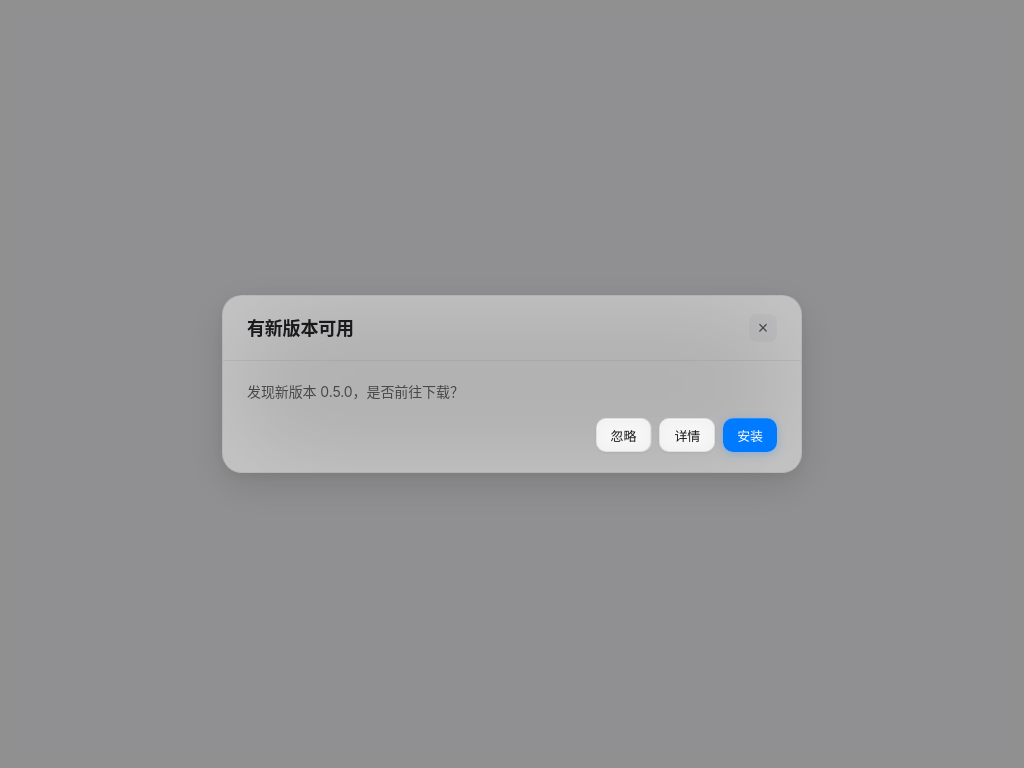
UpdateDialog › should keep close button and show cancel button while downloading
The image size is (1024, 768).
Click the button "安装" at (750,435), box [723, 418, 777, 452]
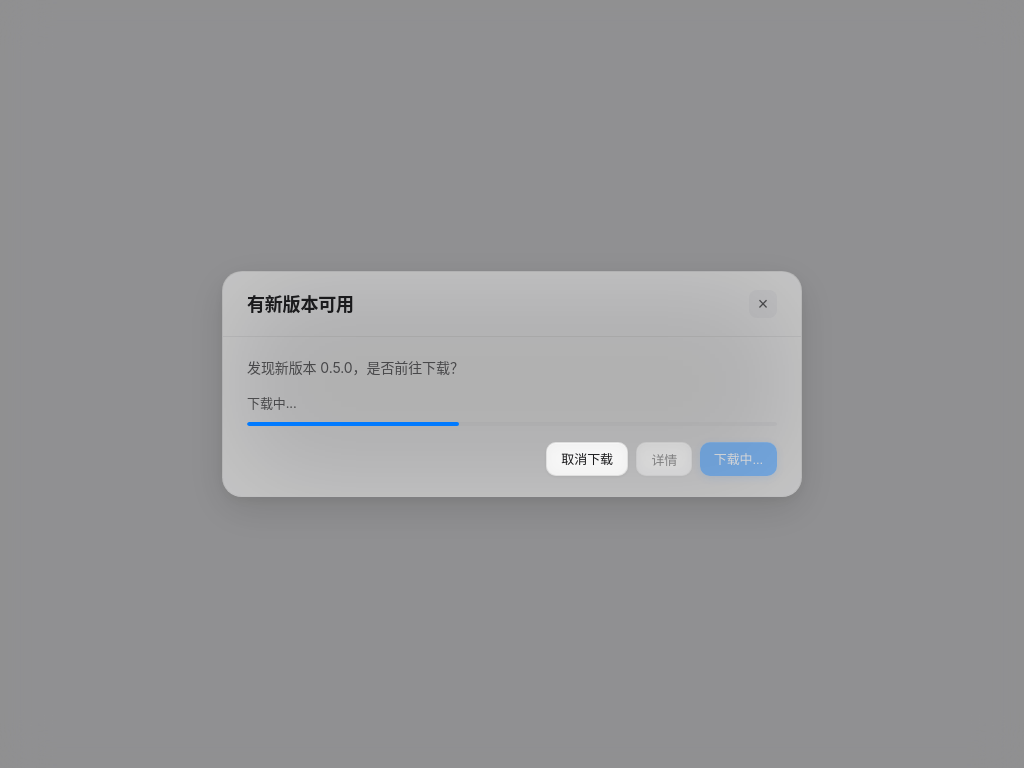
expect the button "×" is shown: met, box [749, 290, 777, 318]
expect the button "取消下载" is shown: met, box [546, 442, 628, 476]
expect the button "忽略" is gone: met
